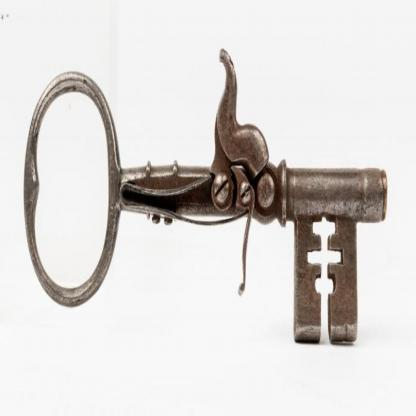key: (23, 44, 400, 354)
